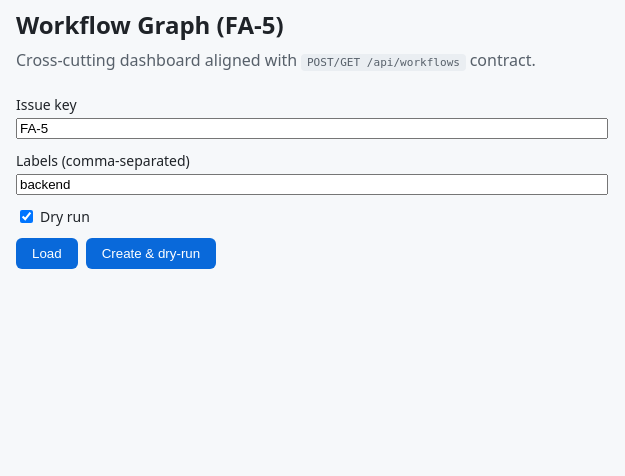
Test: WorkflowRunnerComponent › loads an existing workflow
Click the button "Load". click: (47, 254)
box: top-left (16, 238), bottom-right (78, 269)
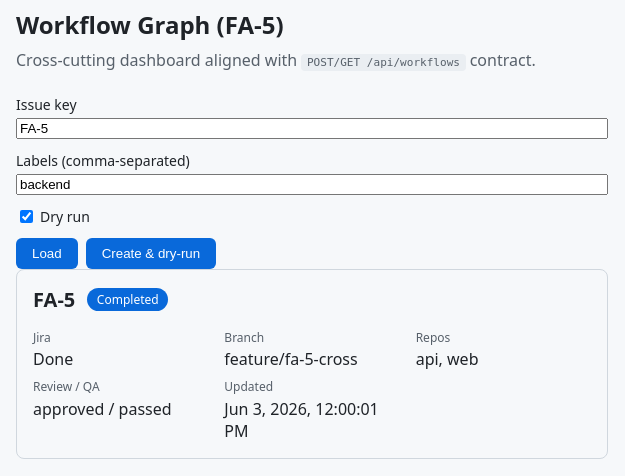
Now the element with test id "workflow-status" is shown, box top-left (16, 269), bottom-right (608, 459)
